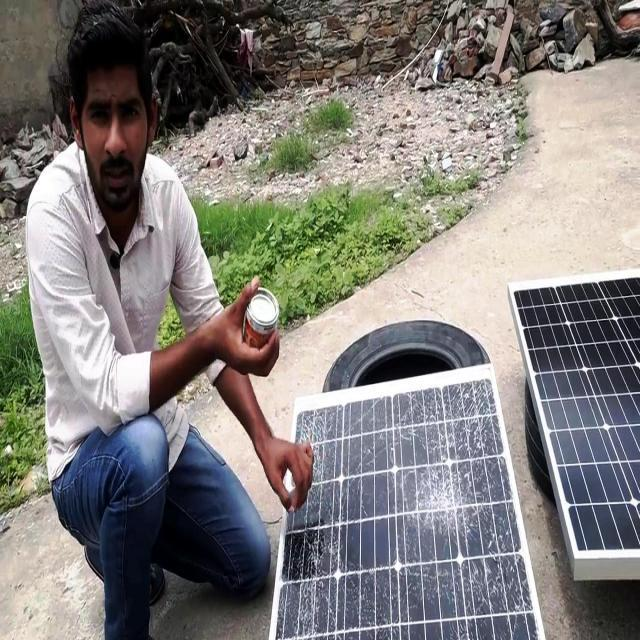faulty: (279, 370, 539, 636)
no faulty: (509, 270, 640, 560)
